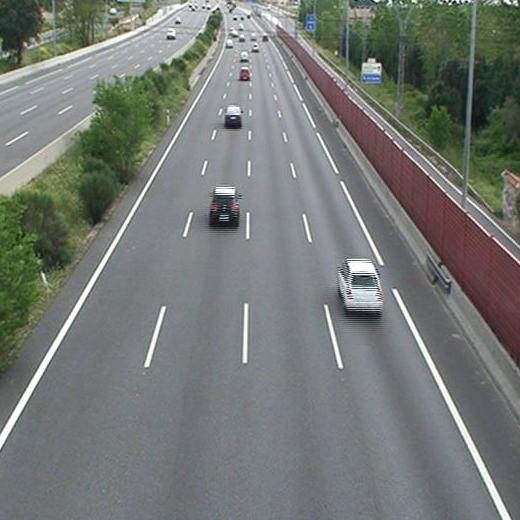car: (337, 260, 384, 310), (210, 188, 240, 221), (225, 106, 240, 124), (239, 68, 250, 80), (240, 51, 250, 61)
